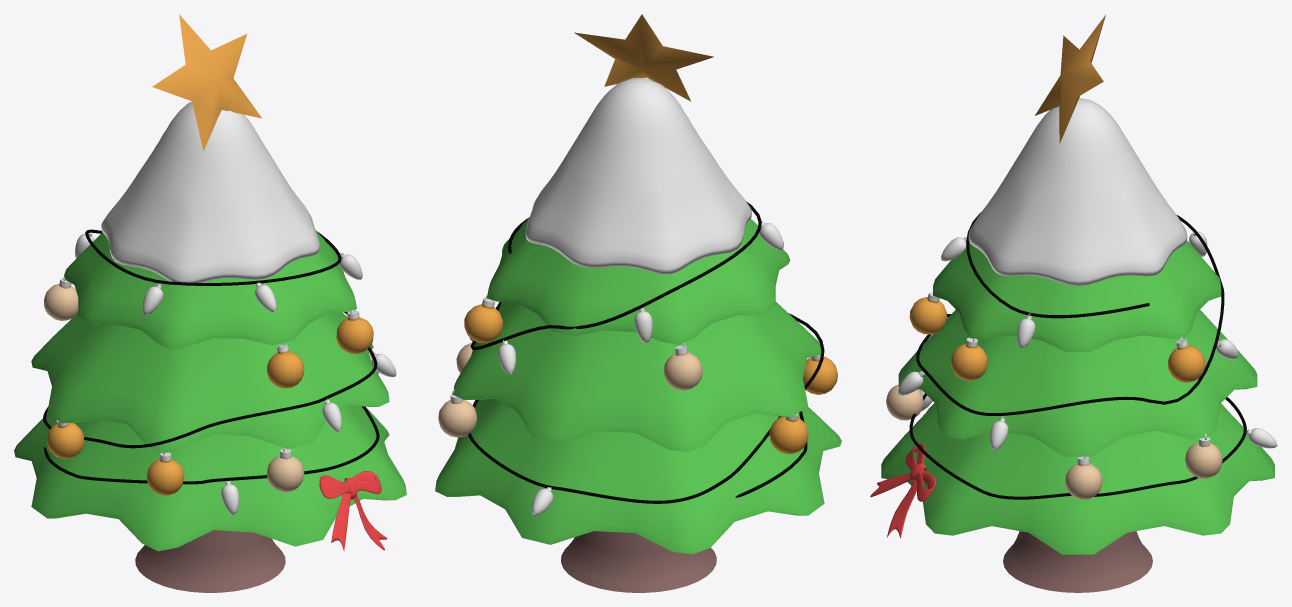
File: Christmas Tree 2.dae
The picture shows the model from 3 angles, left to right: view 1: azimuth 30°, elevation 25°; view 2: azimuth 150°, elevation 25°; view 3: azimuth 270°, elevation 25°; orthographic projection. The views are drawn at different scales.
Visible parts, largest first — view 1: Cube.007, Cube.009, Cube.010, Cube.008, Cylinder.002, Circle, BezierCurve, Plane.002, Cube.011, Cube.012, Cube.013, Cube.014 (+2 smaller); view 2: Cube.009, Cube.007, Cube.010, Cube.008, Cylinder.002, Circle, BezierCurve, Cube.017, Cube.016, Cube.015, Cube.028, Cube.013; view 3: Cube.009, Cube.007, Cube.010, Cube.008, Cylinder.002, BezierCurve, Circle, Plane.002, Cube.026, Cube.016, Cube.011, Cube.012 (+2 smaller).
Boxes of the visible parts, x1,y1,x2,y2 form: Cube.007: (31, 312, 389, 453); Cube.009: (14, 405, 406, 551); Cube.010: (101, 101, 319, 285); Cube.008: (64, 231, 356, 350); Cylinder.002: (135, 530, 285, 592); Circle: (152, 14, 261, 150); BezierCurve: (43, 229, 379, 484); Plane.002: (319, 471, 387, 550); Cube.011: (267, 350, 304, 388); Cube.012: (336, 317, 373, 354); Cube.013: (146, 459, 184, 495); Cube.014: (266, 455, 304, 492); Cube.009: (435, 398, 841, 554); Cube.007: (453, 301, 821, 451); Cube.010: (525, 77, 751, 274); Cube.008: (487, 217, 790, 345); Cylinder.002: (561, 531, 716, 592); Circle: (574, 14, 713, 101); BezierCurve: (468, 201, 824, 503); Cube.017: (663, 352, 702, 390); Cube.016: (464, 304, 502, 343); Cube.015: (438, 399, 477, 437); Cube.028: (769, 416, 808, 454); Cube.013: (803, 356, 837, 394); Cube.009: (881, 403, 1274, 554); Cube.007: (898, 309, 1257, 456); Cube.010: (968, 98, 1187, 285); Cube.008: (933, 240, 1222, 351); Cylinder.002: (1003, 531, 1152, 592); BezierCurve: (909, 212, 1246, 499); Circle: (1035, 15, 1105, 143); Plane.002: (870, 442, 935, 538); Cube.026: (1065, 463, 1102, 499); Cube.016: (1168, 345, 1205, 382); Cube.011: (909, 297, 947, 334); Cube.012: (950, 343, 987, 380).
Bounding box in the file's own units: 2.5 × 2.59 × 3.78.
